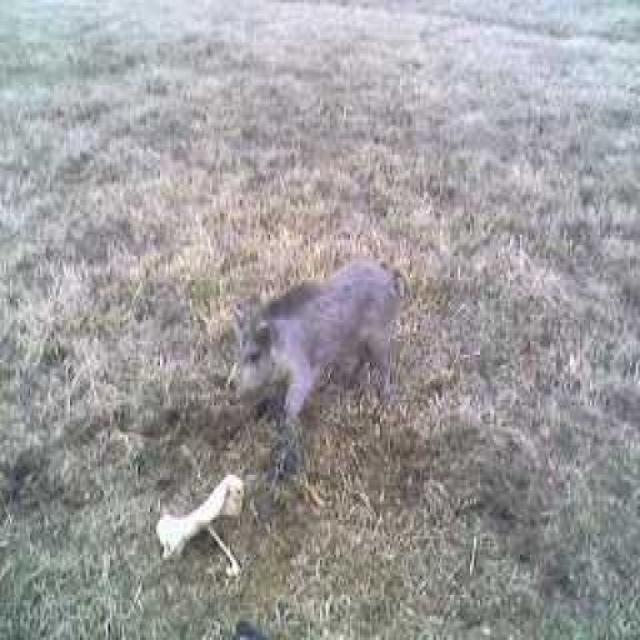pig: (230, 240, 459, 456)
